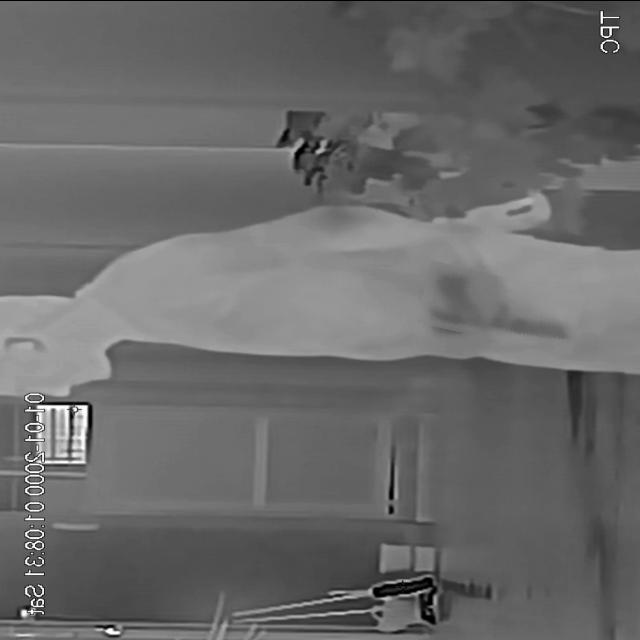Weapon: (418, 268, 582, 348)
